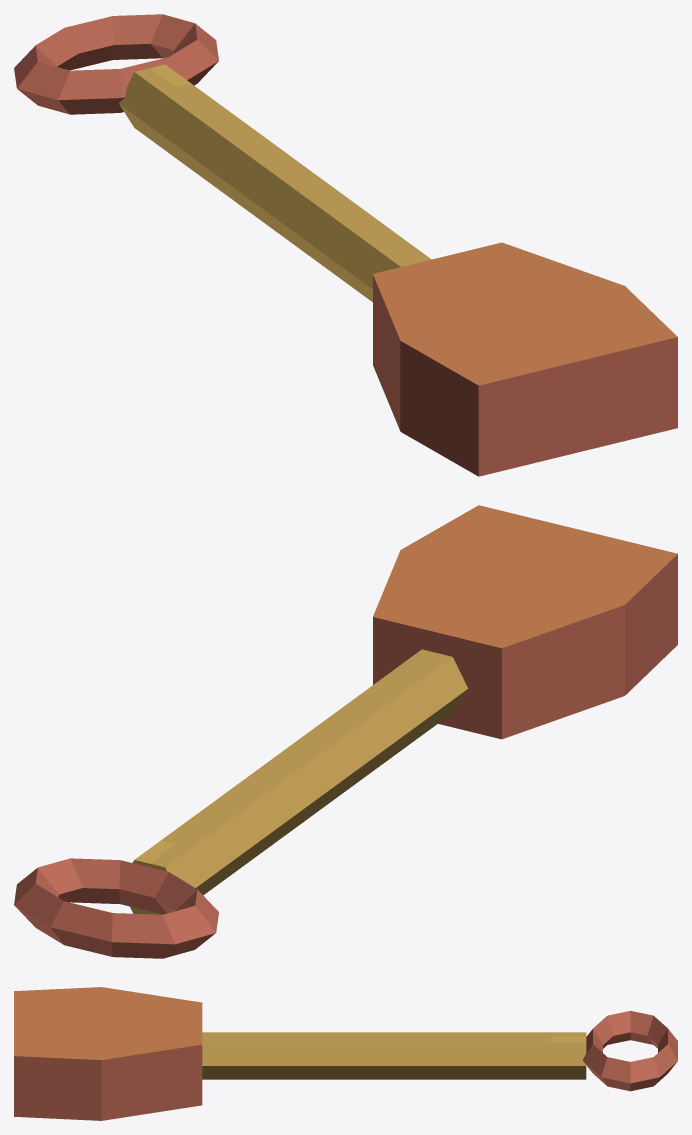
The model's file is shovel.glb.
3 views of the same model, one above another, from view 1: azimuth 30°, elevation 25°; view 2: azimuth 150°, elevation 25°; view 3: azimuth 270°, elevation 25° (orthographic). The views are drawn at different scales.
Parts seen in each view (by area): view 1: shovel; view 2: shovel; view 3: shovel.
Part boxes in pixels (box(x1,y1,x2,y2)): shovel: box(14, 14, 677, 476); shovel: box(14, 505, 677, 958); shovel: box(14, 987, 677, 1120).
Bounding box in the file's own units: 0.16 × 0.062 × 0.6139.
Materials: 1 (1 with a texture image).
